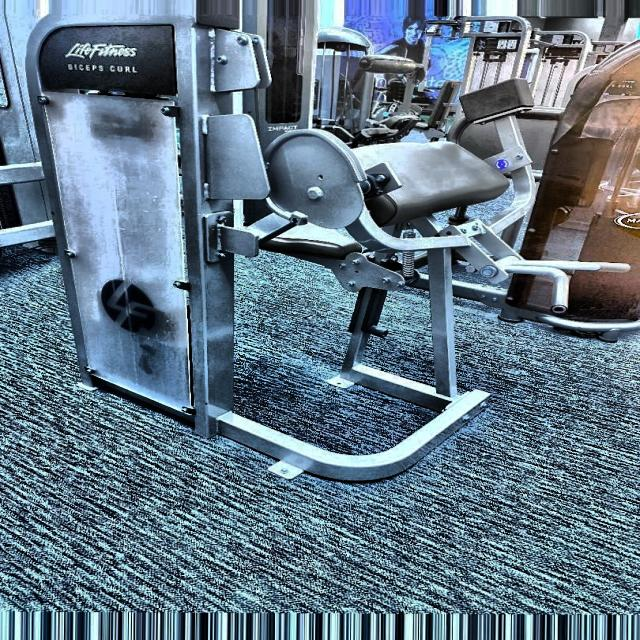bicep_curl_machine: (245, 24, 639, 495), (58, 58, 163, 77)
